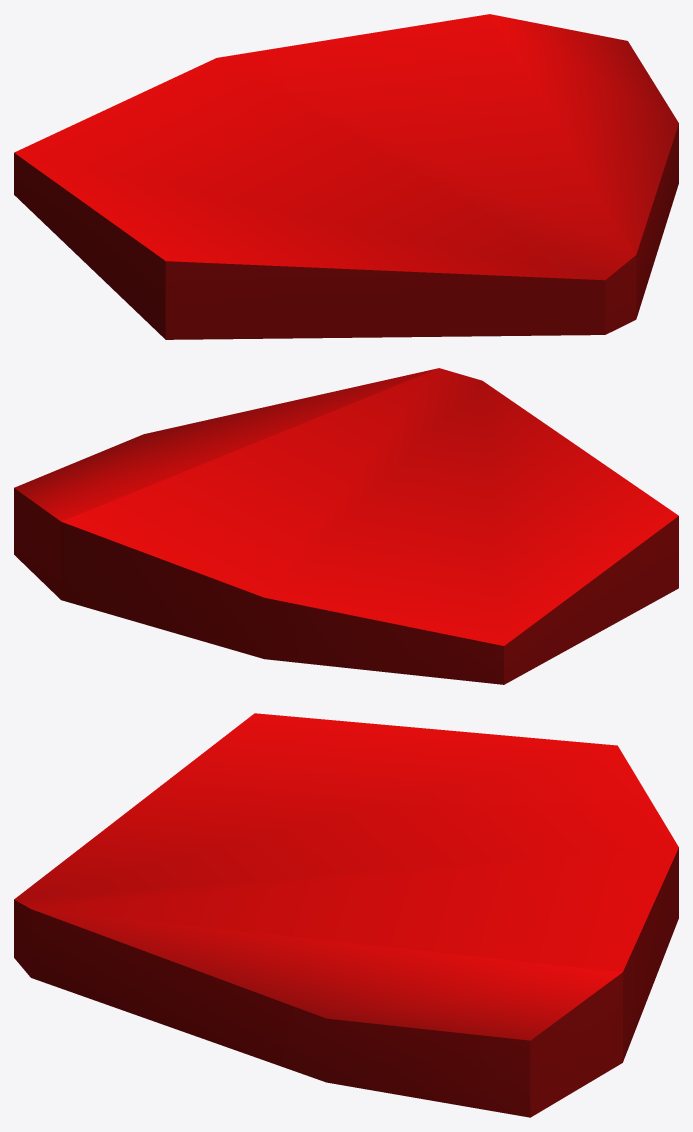
File: geology-landforms-icedrift_v8.fbx
The picture shows the model from 3 angles, top to bottom: view 1: azimuth 30°, elevation 25°; view 2: azimuth 150°, elevation 25°; view 3: azimuth 270°, elevation 25°; orthographic projection. The views are drawn at different scales.
Parts seen in each view (by area): view 1: IceDrift_v8; view 2: IceDrift_v8; view 3: IceDrift_v8.
Part boxes in pixels (box(x1,y1,x2,y2)): IceDrift_v8: box(14, 14, 678, 339); IceDrift_v8: box(14, 368, 678, 684); IceDrift_v8: box(14, 713, 678, 1117).
Bounding box in the file's own units: 2.88 × 0.4254 × 2.63.
